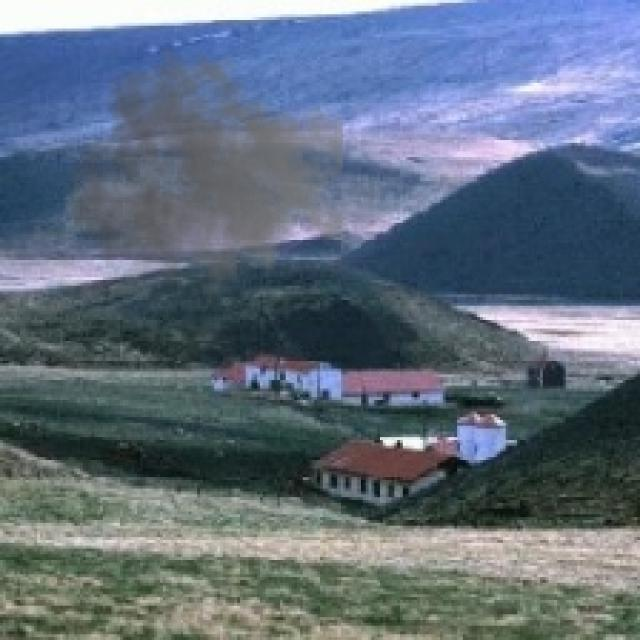Smoke: (66, 42, 343, 318)
